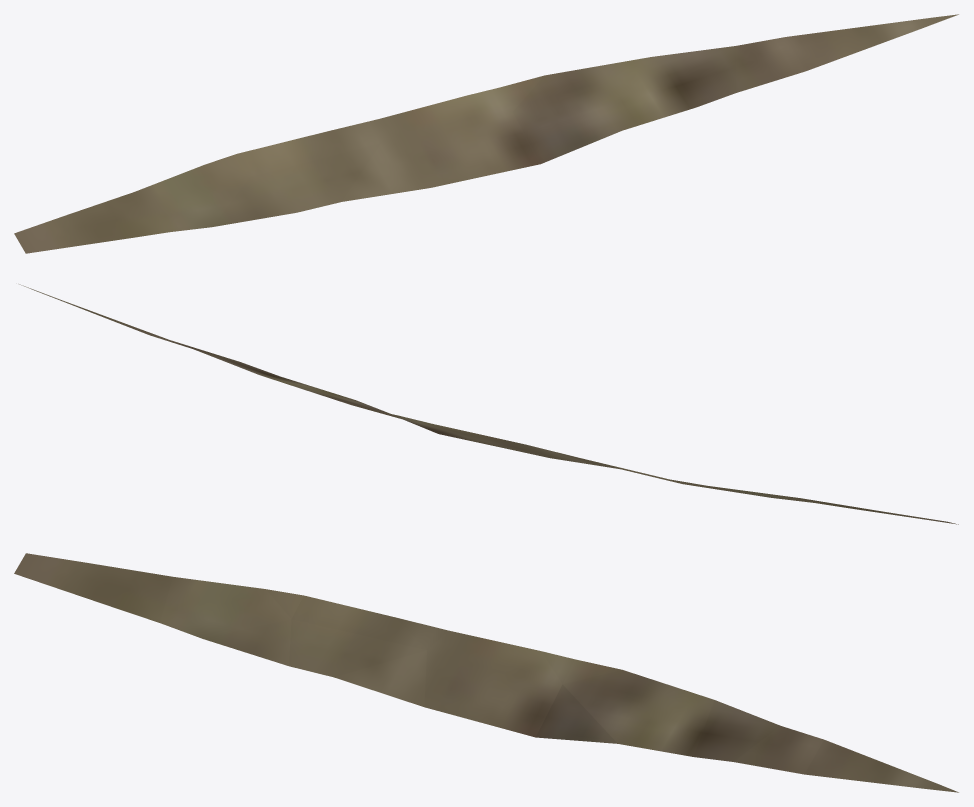
The picture shows the model from 3 angles, top to bottom: view 1: azimuth 30°, elevation 25°; view 2: azimuth 150°, elevation 25°; view 3: azimuth 330°, elevation 25°; orthographic projection.
Bounding box in the file's own units: 28.18 × 1.37 × 2.15.
Materials: 1 (1 with a texture image).
